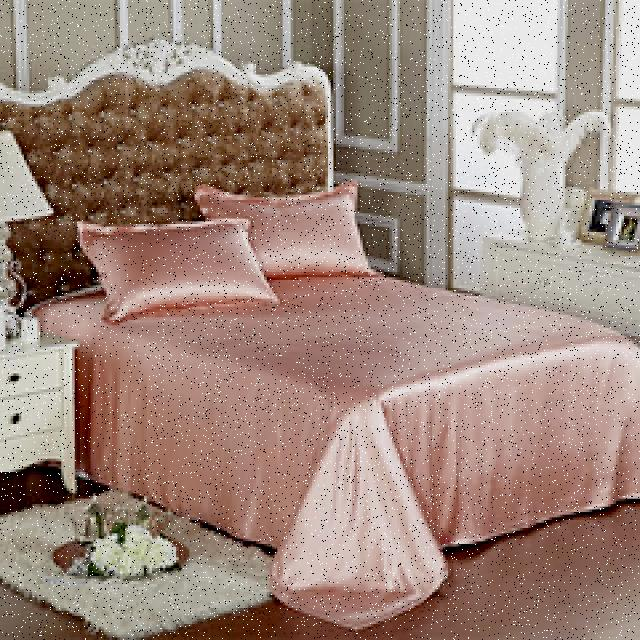bed: (23, 175, 640, 563)
